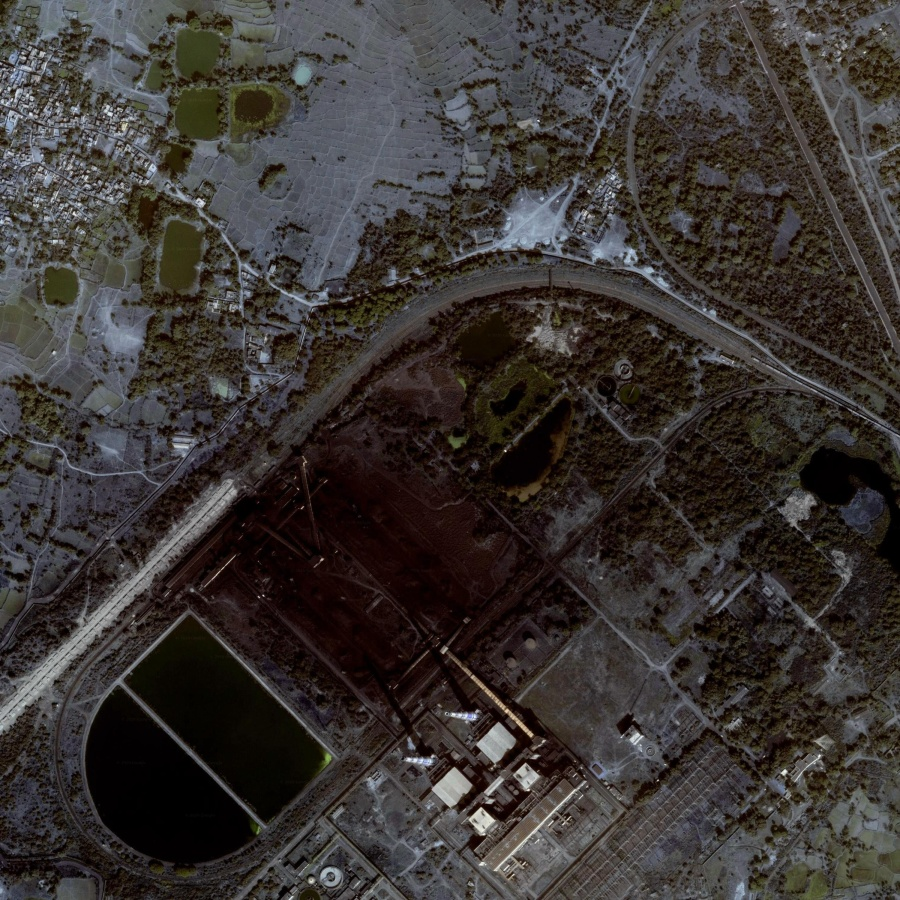PowerPlant: (68, 383, 579, 895)
